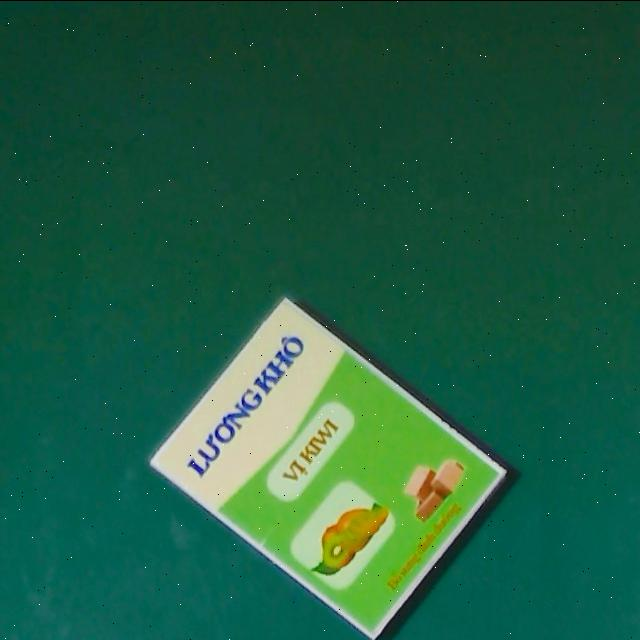kiwi: (148, 292, 507, 640)
